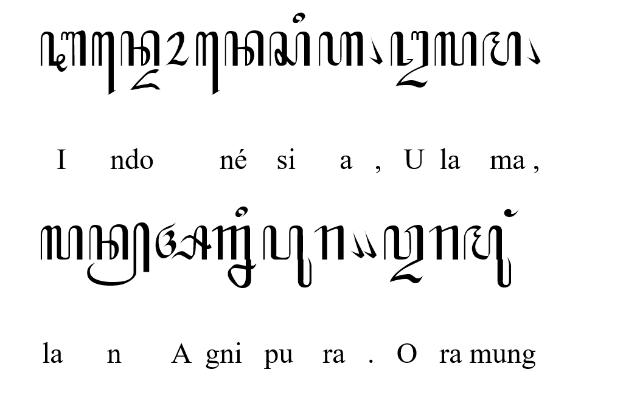-n: (86, 222, 150, 286)
A: (154, 222, 212, 262)
I: (39, 29, 87, 73)
O: (383, 224, 423, 284)
U: (390, 29, 430, 88)
_d: (131, 68, 161, 92)
e1: (194, 31, 220, 95), (92, 31, 116, 95)
gn: (212, 225, 256, 289)
h: (318, 30, 364, 66)
i: (292, 12, 306, 24), (235, 206, 248, 218)
kom: (369, 36, 383, 64), (527, 36, 541, 64), (350, 231, 364, 259), (362, 230, 376, 258)
l: (433, 31, 477, 67), (40, 225, 84, 261)
m: (482, 31, 522, 67)
mu: (463, 224, 512, 288)
n: (120, 29, 160, 66), (224, 29, 264, 66)
ng: (504, 208, 520, 218)
o: (164, 30, 190, 66)
pu: (262, 225, 312, 289)
r: (313, 225, 345, 261), (428, 225, 458, 261)
s: (268, 31, 310, 67)
